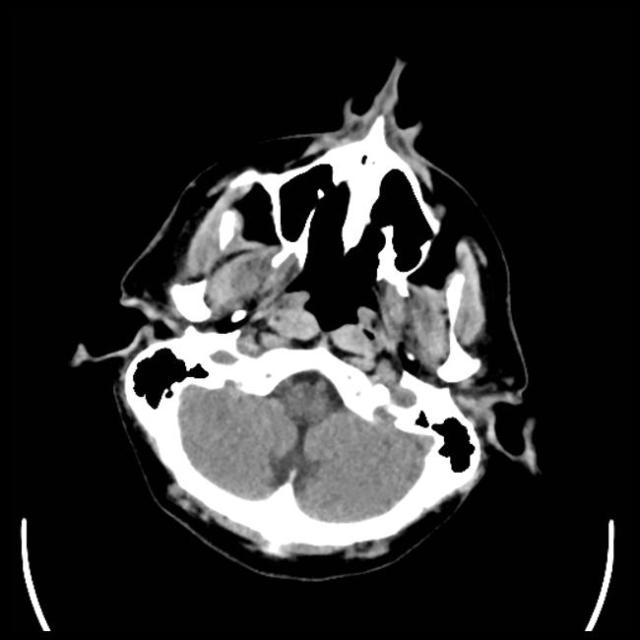lesion: (74, 54, 544, 580)
